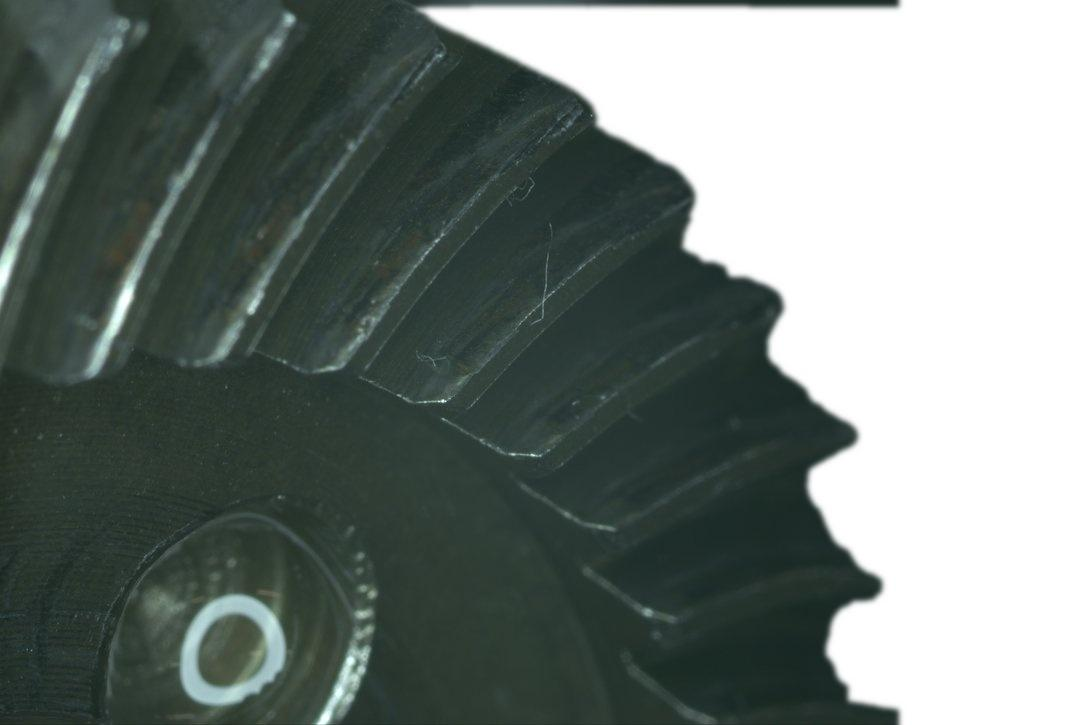defect: (184, 5, 305, 171), (358, 37, 468, 128), (60, 10, 145, 109), (480, 88, 591, 154)
